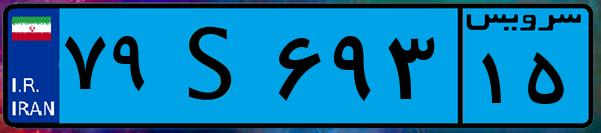1: (475, 38, 525, 113)
3: (385, 28, 445, 110)
5: (525, 38, 570, 115)
6: (270, 28, 330, 110)
7: (57, 26, 110, 100)
9: (330, 28, 385, 110), (110, 28, 158, 98)
S: (158, 12, 270, 120)
